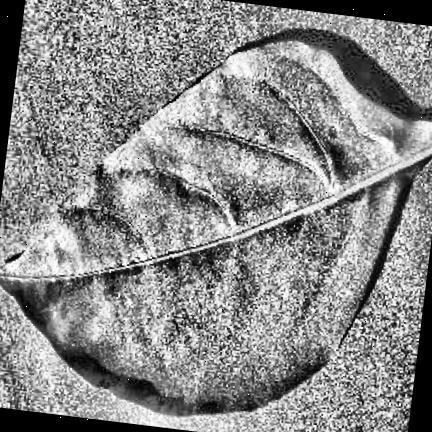leaf: (0, 39, 432, 415)
